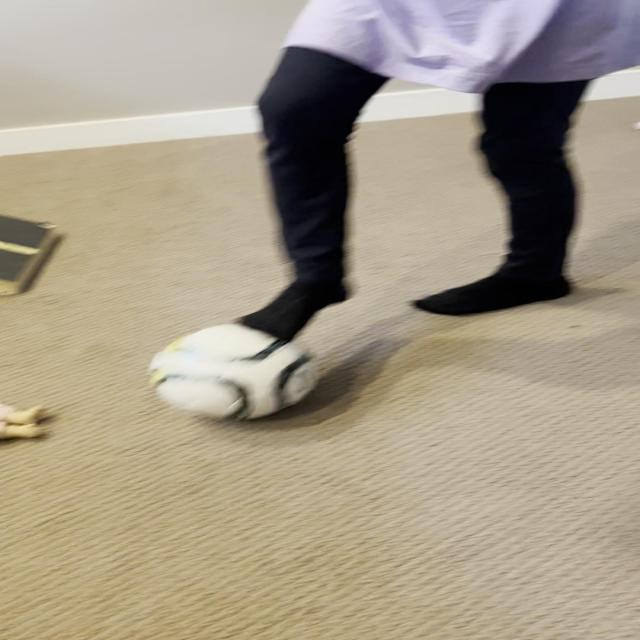Soccer Ball: (150, 323, 322, 419)
